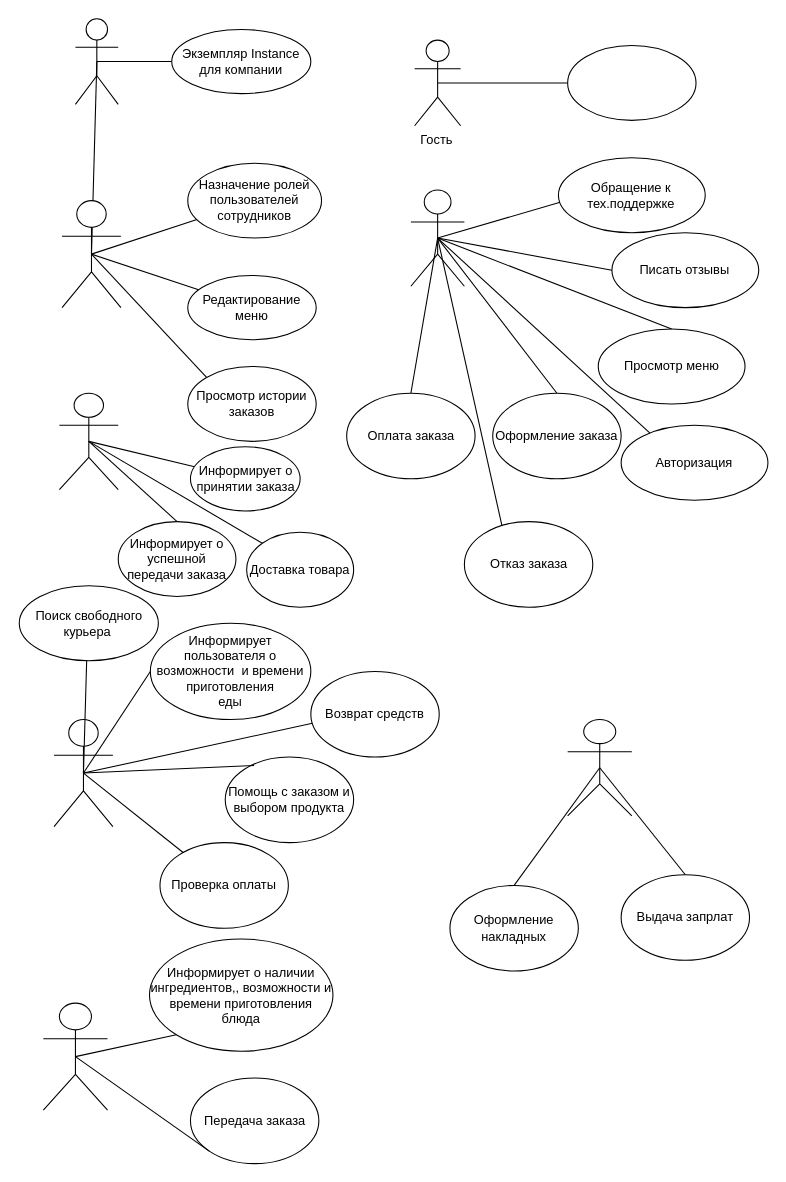
Some shapes in this 786 by 1182 pixel diagram are drawn without their labels. The box of each missing label's shape, as (x1, y1, x2, y2) in pixels:
Администратор: (61, 200, 121, 308)
Бухгалтер: (567, 719, 632, 816)
Владелец сервиса: (74, 18, 118, 104)
Кладовщик: (42, 1002, 108, 1110)
Курьер: (58, 392, 118, 490)
Менеджер: (53, 719, 113, 827)
Пользователь: (410, 189, 464, 286)
Регистрация пользователя: (567, 44, 696, 120)
